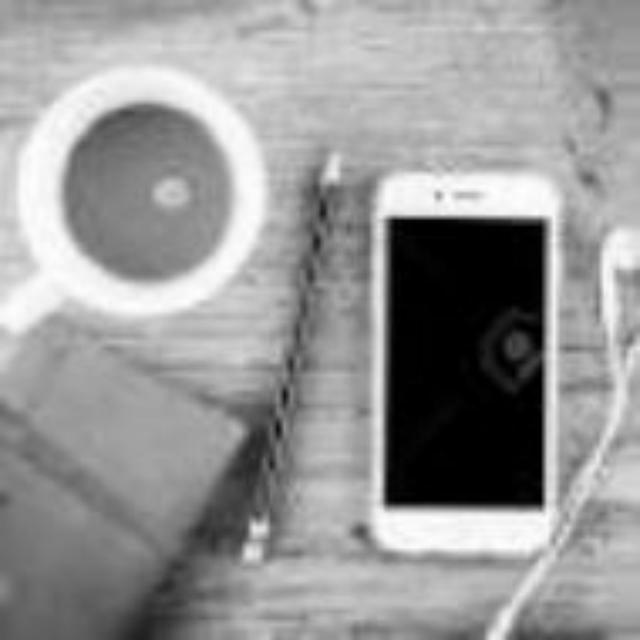fake: (363, 152, 571, 572)
